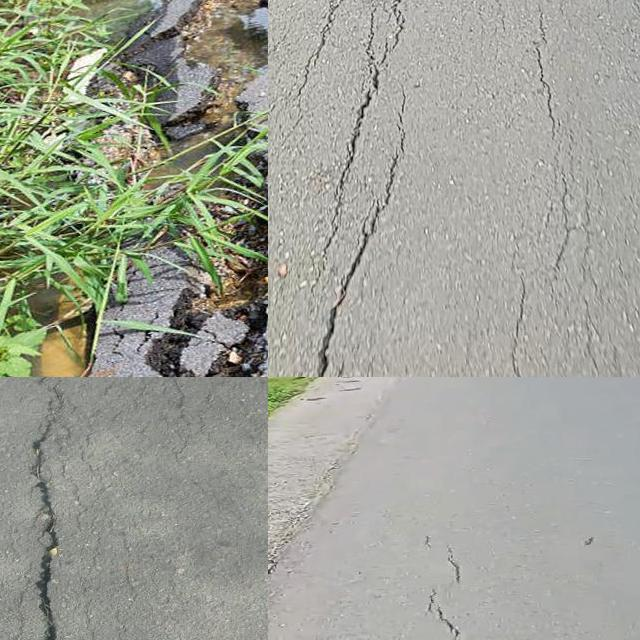Memanjang: (301, 103, 415, 377), (304, 0, 415, 268), (10, 378, 77, 640), (415, 537, 472, 640)
Pinggir: (66, 0, 268, 377)
